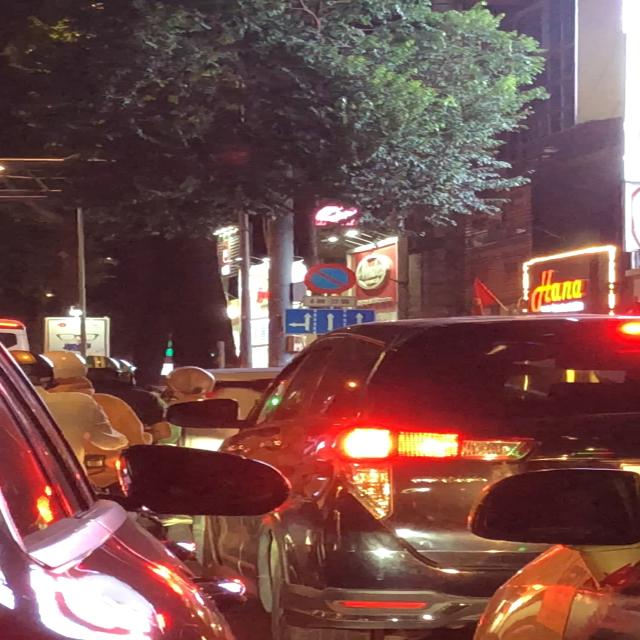Bien bao cam do xe: (303, 262, 359, 296)
